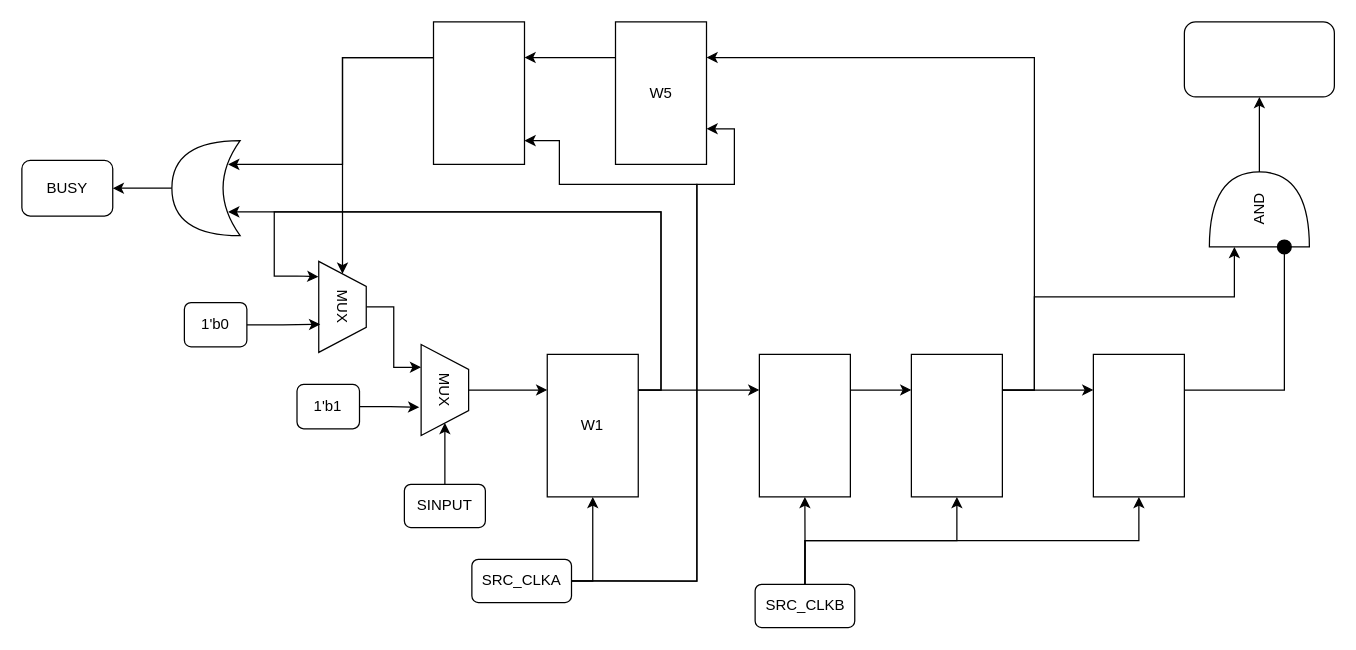
Image size: 1356x650. Some labels were removed from this diagram. The shapes that lost their labels are listed below. From the top down, each one's centre as x and y in pixels, then its label:
At [1258,59]: "SYNC_OUT".
At [478,92]: "W6".
At [804,425]: "W2".
At [956,425]: "W3".
At [1138,425]: "W4".
